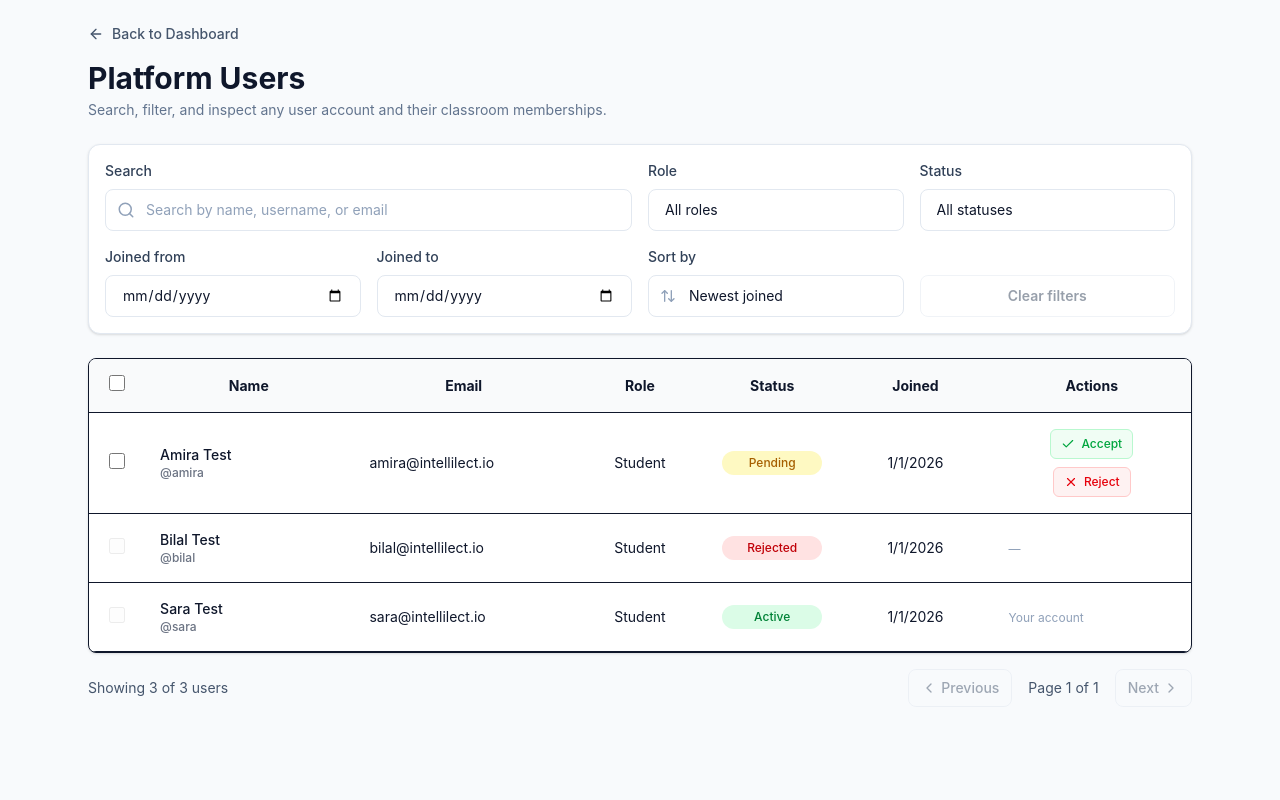
Test: UsersDirectoryPage bulk status changes › select-all skips the rows that can never be acted on
Expected: the text "Amira Test" is shown, [160, 446, 232, 463]
Click the checkbox named "Select every changeable account".
click(116, 383)  # box [108, 375, 124, 391]
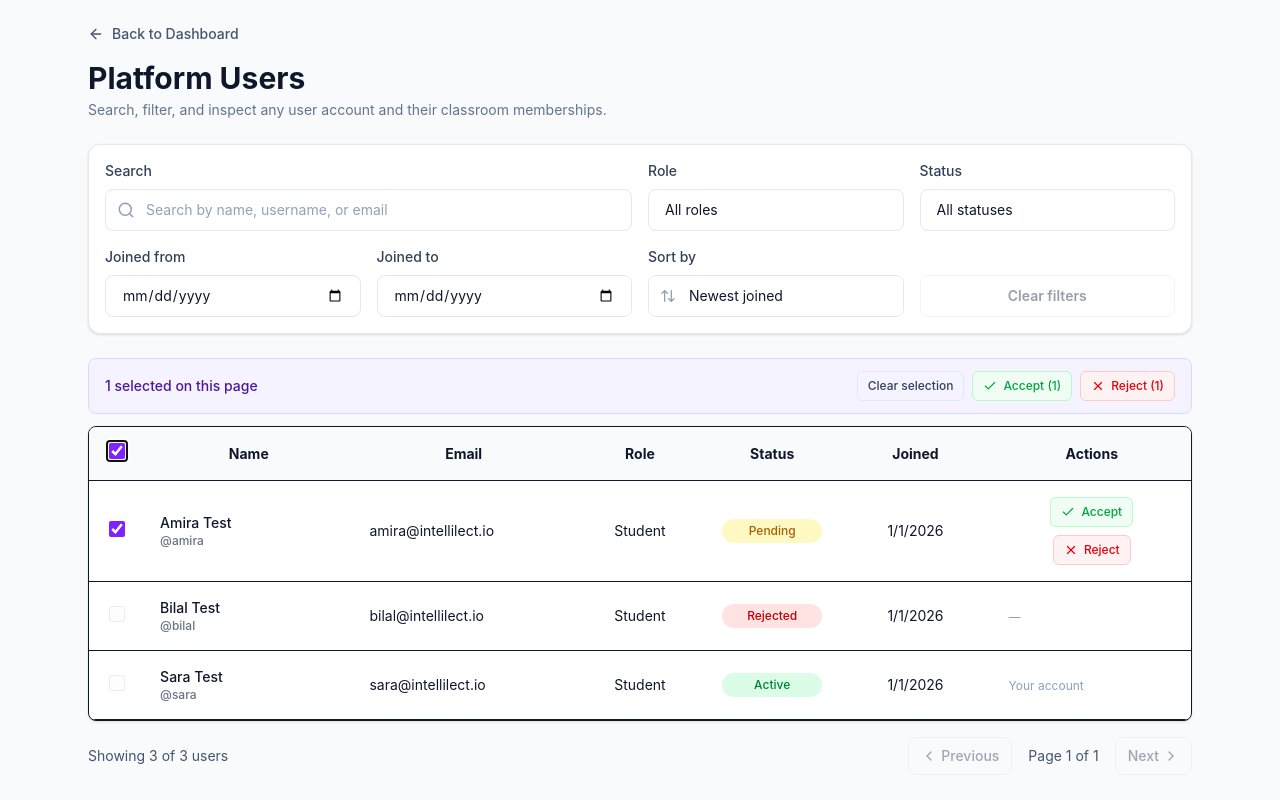
Expected: the text "1 selected on this page" is shown, [105, 376, 258, 396]
